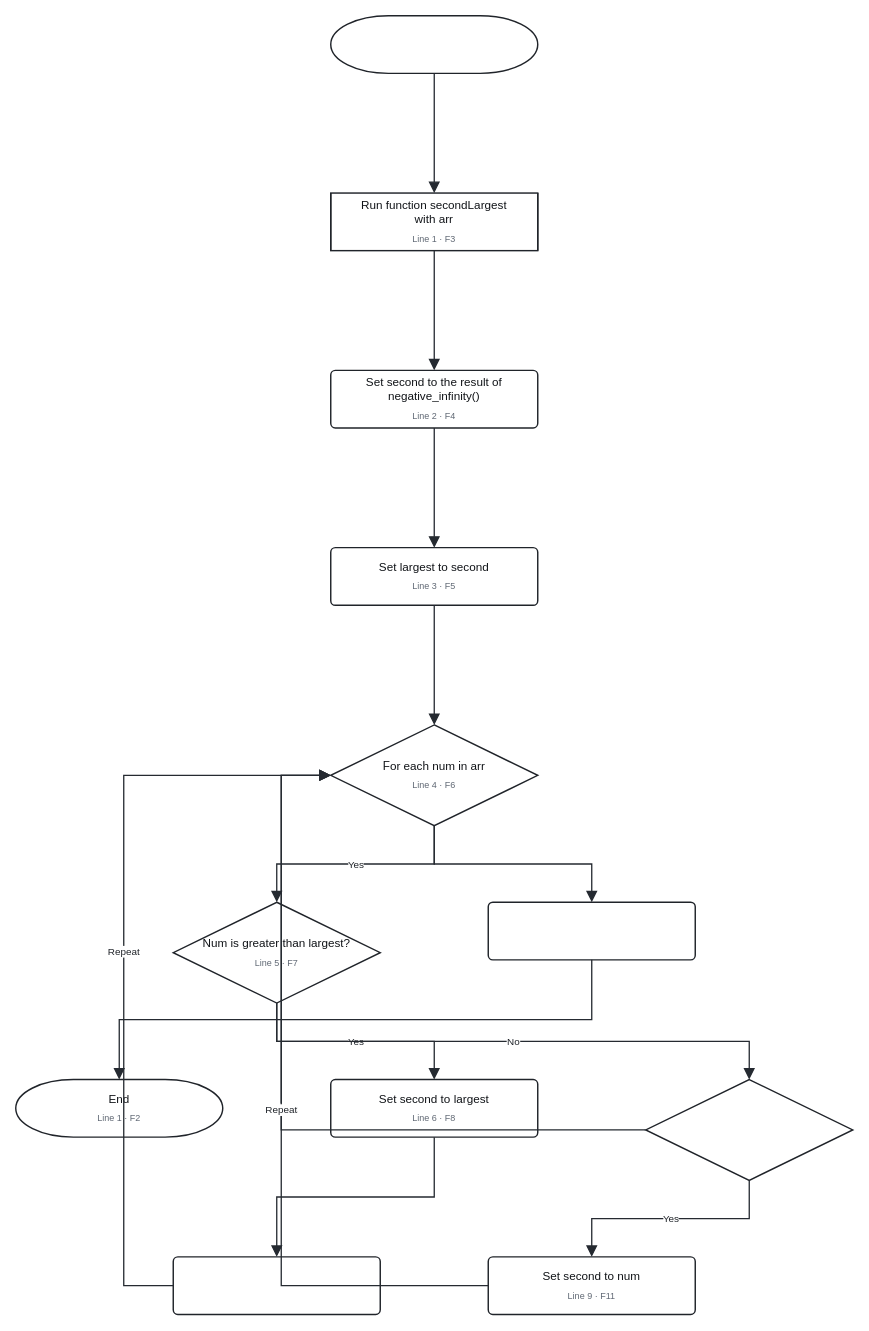
Some shapes in this 869 by 1331 pixel diagram are drawn without their labels. The centre of each missing label's shape, as x and y in pixels:
Is num is greater than second and num is not equal to largest true? Line 8 · F10: point (749, 1129)
Return second Line 12 · F12: point (591, 930)
Set largest to num Line 7 · F9: point (276, 1285)
Start Line 1 · F1: point (434, 44)
